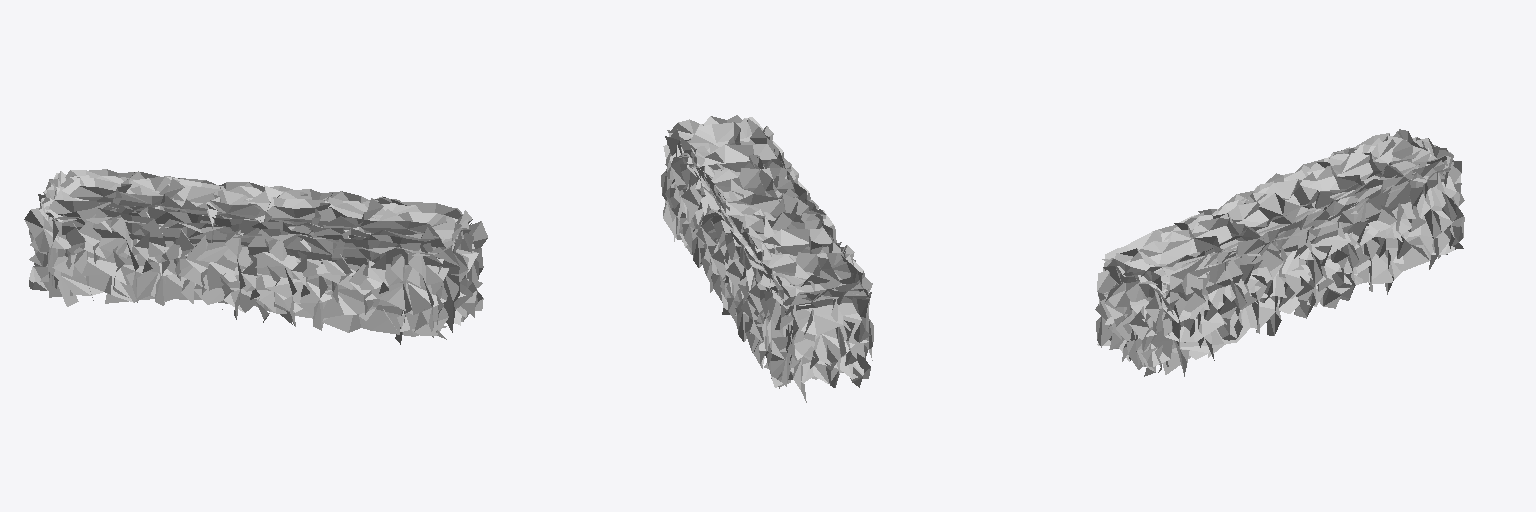
3 renders of one model, left to right at view 1: azimuth 30°, elevation 25°; view 2: azimuth 150°, elevation 25°; view 3: azimuth 270°, elevation 25°, orthographic.
Visible parts, largest first — view 1: Bistro_Research_Exterior_bux_hedge_box_long_low10_3967; view 2: Bistro_Research_Exterior_bux_hedge_box_long_low10_3967; view 3: Bistro_Research_Exterior_bux_hedge_box_long_low10_3967.
Part boxes in pixels (bbox=[...]): Bistro_Research_Exterior_bux_hedge_box_long_low10_3967: bbox=[24, 169, 487, 344]; Bistro_Research_Exterior_bux_hedge_box_long_low10_3967: bbox=[661, 115, 873, 402]; Bistro_Research_Exterior_bux_hedge_box_long_low10_3967: bbox=[1095, 129, 1464, 376].
Size of the model in its own units: 5.4 by 1.95 by 5.25.